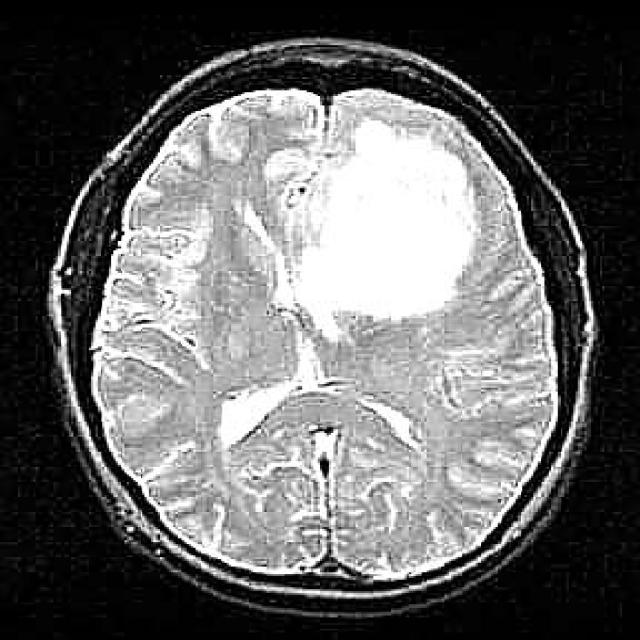Tumor-Cell: (254, 125, 454, 316)
